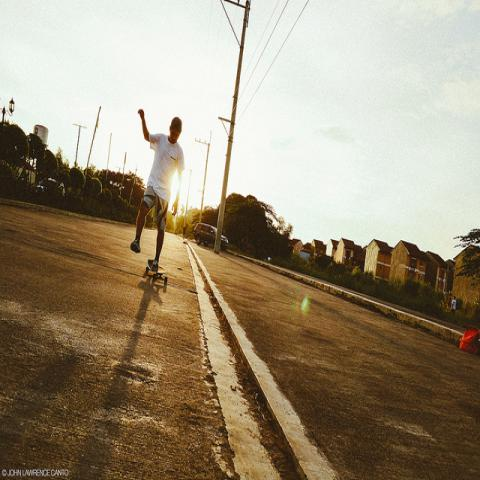car: (194, 222, 228, 250)
